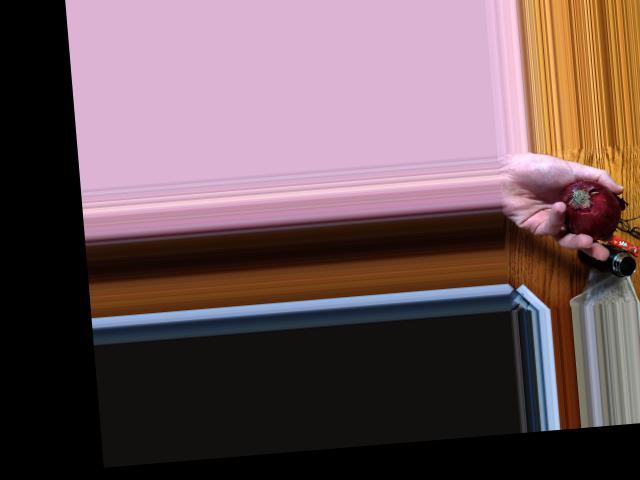onion: (552, 174, 620, 235)
